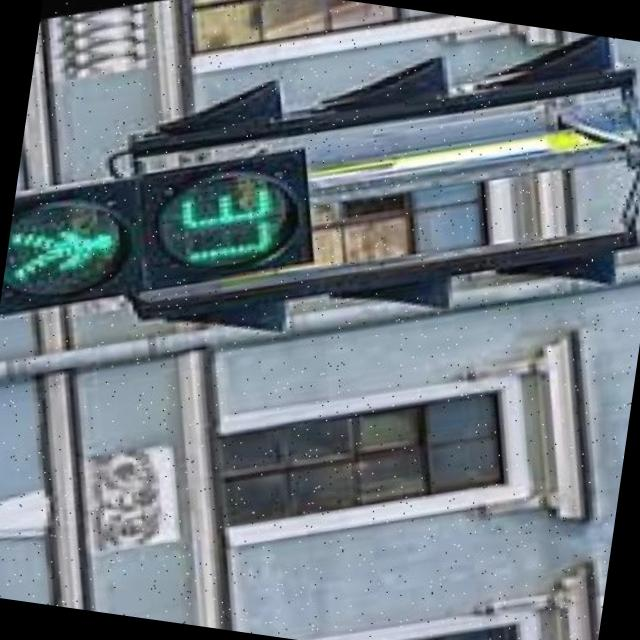green_light: (1, 125, 306, 334)
